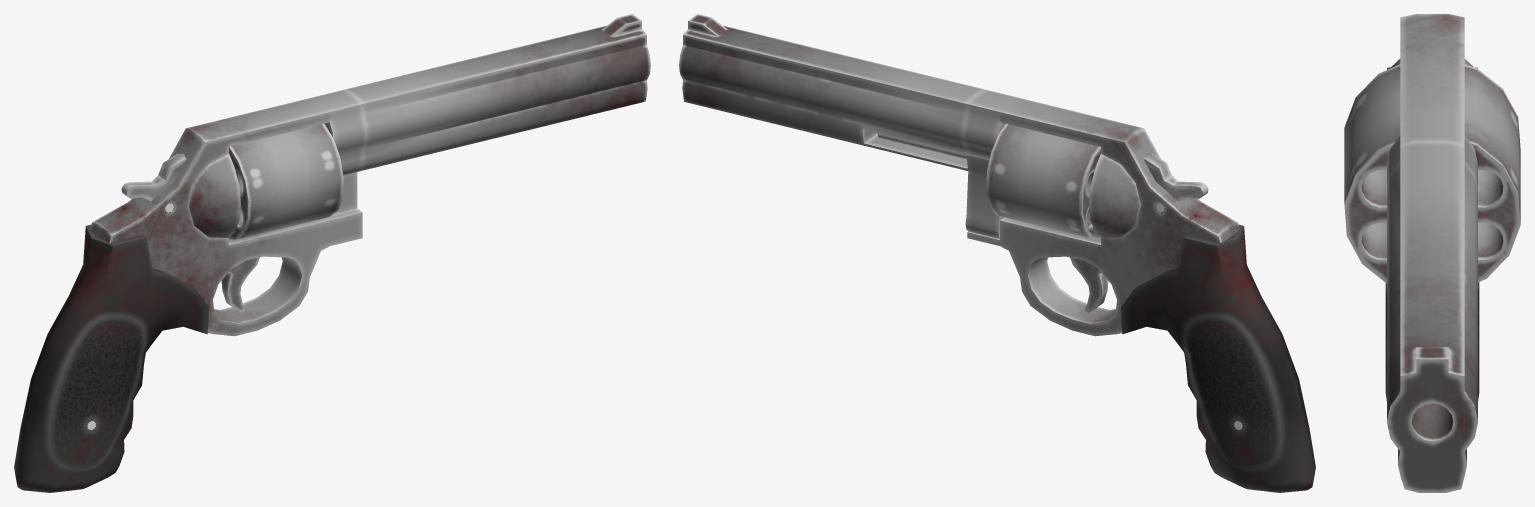
File: loafbrr-revolver.glb
The picture shows the model from 3 angles, left to right: view 1: azimuth 30°, elevation 25°; view 2: azimuth 150°, elevation 25°; view 3: azimuth 270°, elevation 25°; orthographic projection. The views are drawn at different scales.
Parts seen in each view (by area): view 1: REV_Frame, REV_Handle, REV_Cylinder, Hammer, REV_Trigger; view 2: REV_Frame, REV_Handle, REV_Cylinder, LOW_CHamberRotate, Hammer, REV_Trigger; view 3: REV_Frame, REV_Cylinder, REV_Handle.
Boxes of the visible parts, x1,y1,x2,y2 form: REV_Frame: (90,14,650,336); REV_Handle: (14,224,208,492); REV_Cylinder: (229,123,343,239); Hammer: (121,153,186,201); REV_Trigger: (221,257,259,312); REV_Frame: (679,14,1239,336); REV_Handle: (1121,224,1315,492); REV_Cylinder: (986,123,1100,239); LOW_CHamberRotate: (965,155,1004,238); Hammer: (1143,153,1208,201); REV_Trigger: (1070,257,1108,312); REV_Frame: (1387,14,1477,492); REV_Cylinder: (1344,64,1520,283); REV_Handle: (1385,67,1479,400).
Size of the model in its own units: 0.3446 by 0.1767 by 0.0508.
1 material, 1 textured.
